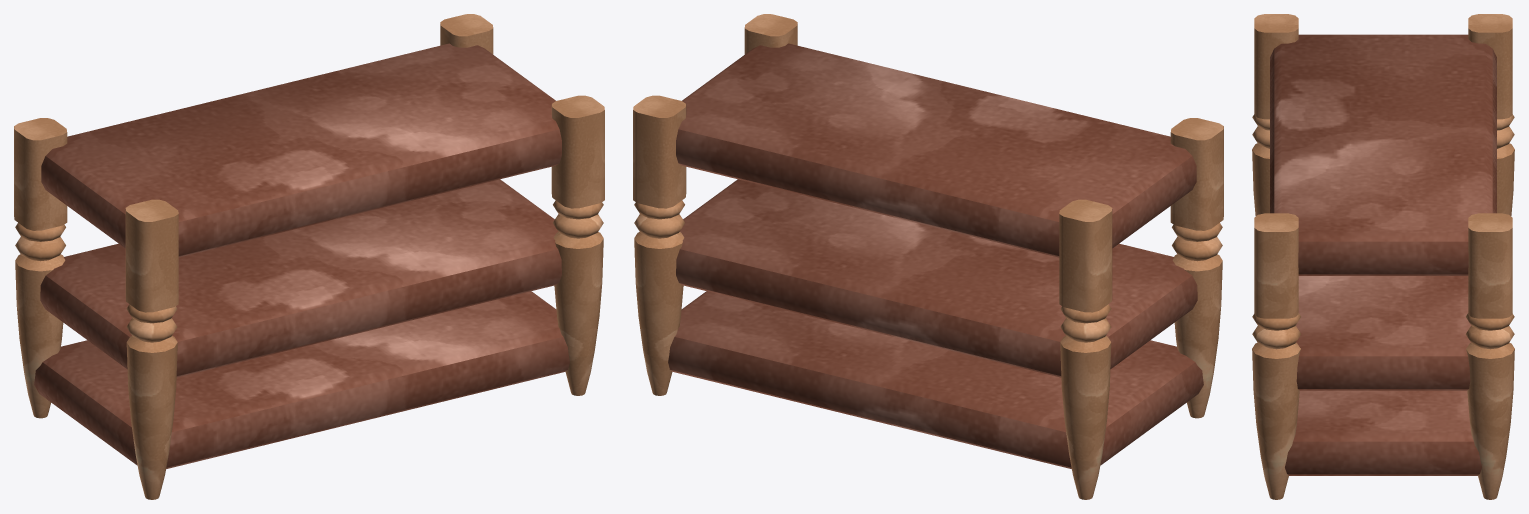
File: SM_Table_Large.fbx
The picture shows the model from 3 angles, left to right: view 1: azimuth 30°, elevation 25°; view 2: azimuth 150°, elevation 25°; view 3: azimuth 270°, elevation 25°; orthographic projection. The views are drawn at different scales.
Visible parts, largest first — view 1: SM_Furniture_Large_01_pt2, SM_Furniture_Large_01_pt1; view 2: SM_Furniture_Large_01_pt2, SM_Furniture_Large_01_pt1; view 3: SM_Furniture_Large_01_pt1, SM_Furniture_Large_01_pt2.
Boxes of the visible parts, box(x1,y1,x2,y2) form: SM_Furniture_Large_01_pt2: box(14, 90, 368, 499); SM_Furniture_Large_01_pt1: box(256, 14, 604, 420); SM_Furniture_Large_01_pt2: box(869, 90, 1223, 499); SM_Furniture_Large_01_pt1: box(633, 14, 981, 420); SM_Furniture_Large_01_pt1: box(1252, 134, 1514, 499); SM_Furniture_Large_01_pt2: box(1252, 14, 1514, 216).
Size of the model in its own units: 198 by 115 by 100.
Materials: 1 (1 with a texture image).
